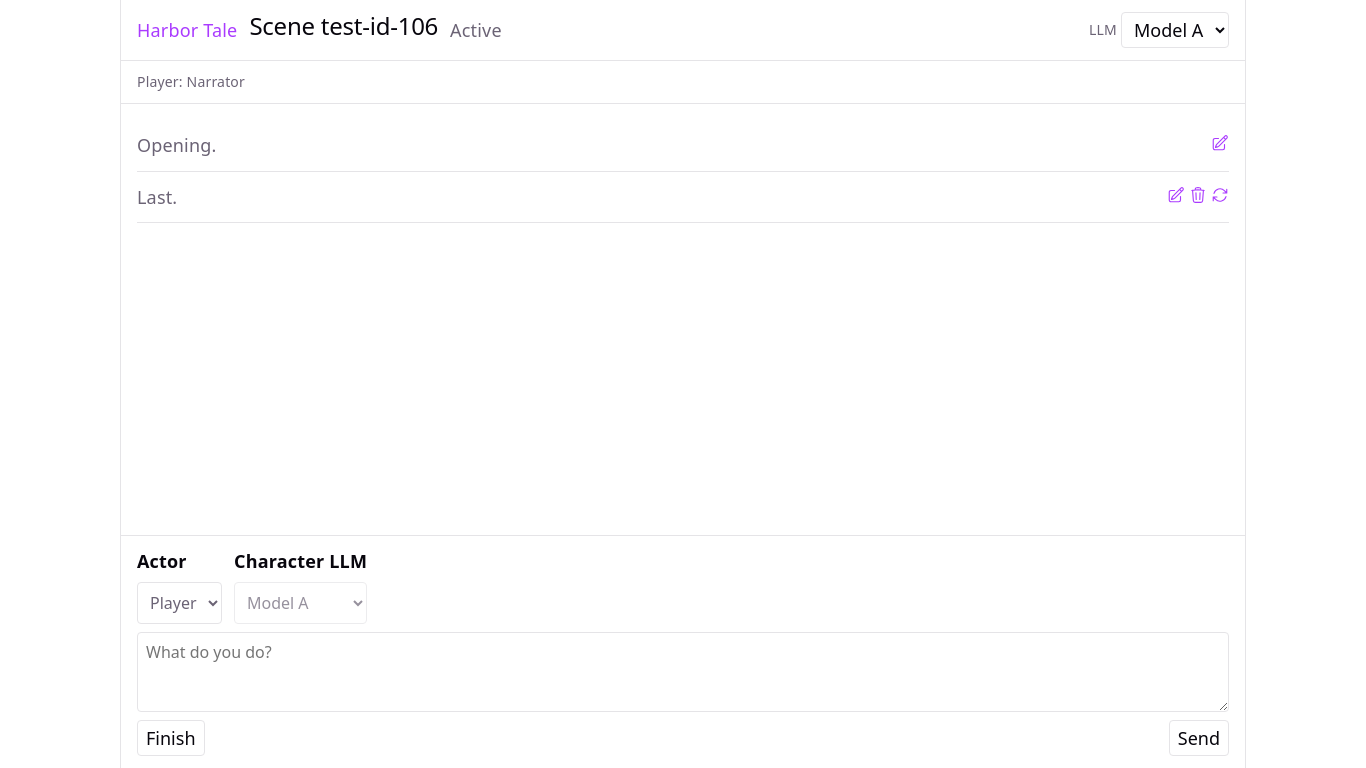
Test: CharacterScenePage › edits any paragraph in place and keeps Delete off the opening item
Expected: the text "Opening." is shown, [137,133,216,157]
Expected: the button named "Edit paragraph" in the row of "Opening." is shown, [1211,132,1229,158]
Click the button named "Edit paragraph" in the row of "Last.": (1176, 197) [1167,184,1185,210]
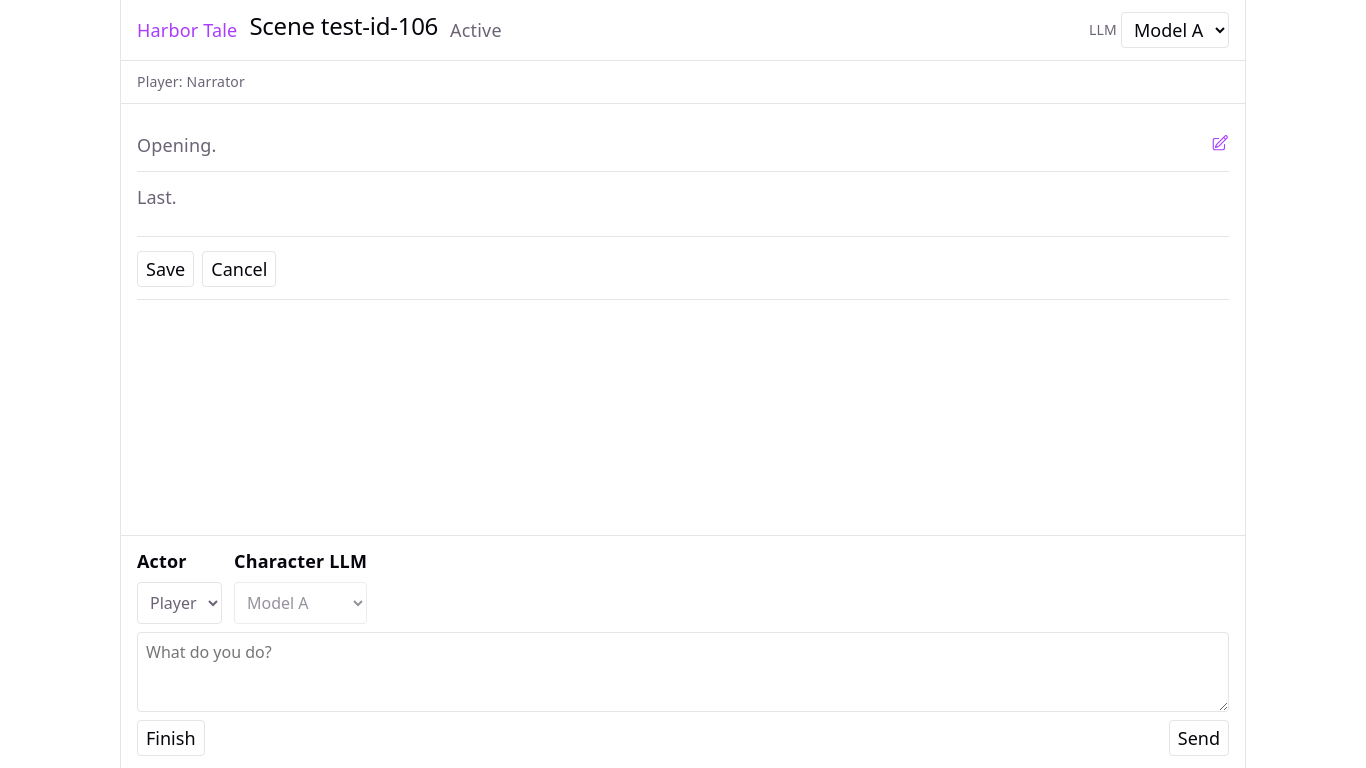
Replace the text in the text box named "Edit paragraph" with "Updated last paragraph.": (683, 210) [137,184,1229,237]
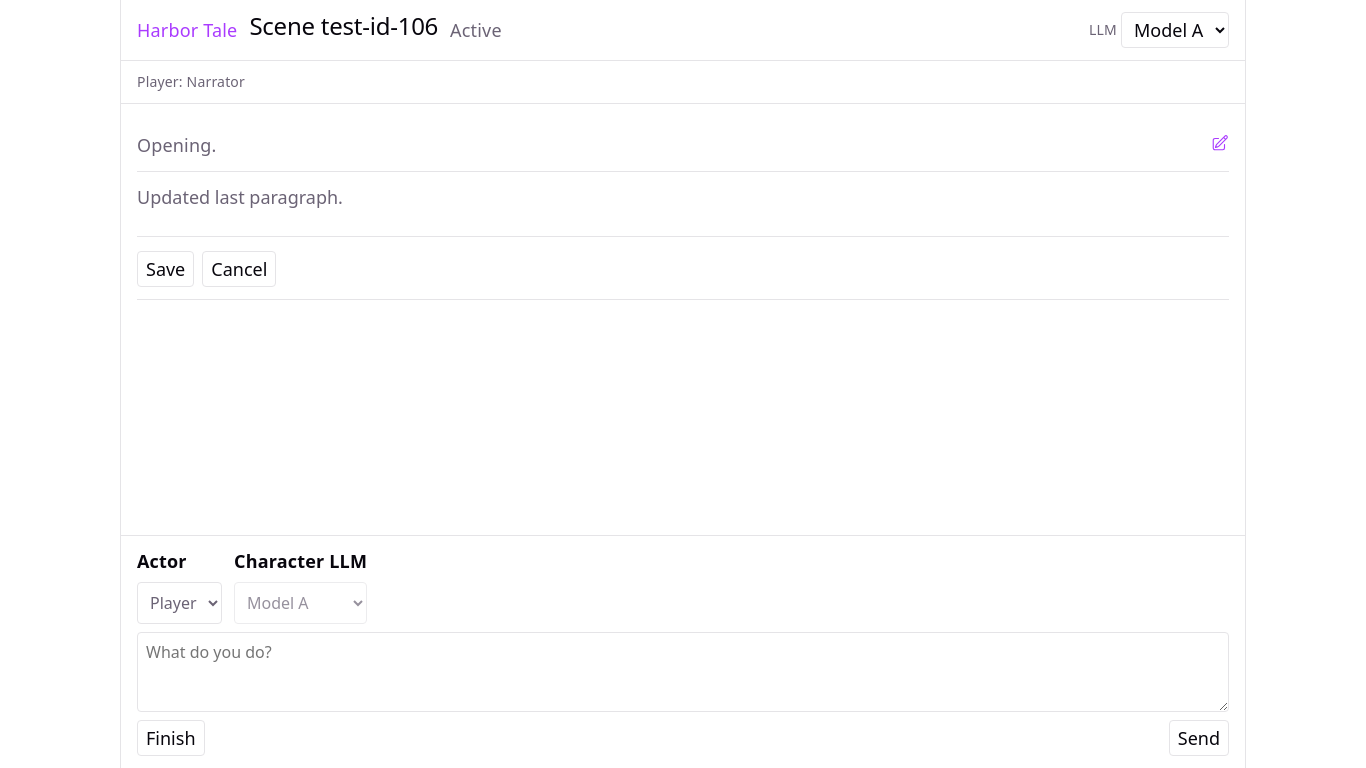
Click the button "Save": (166, 269) [137,251,194,287]
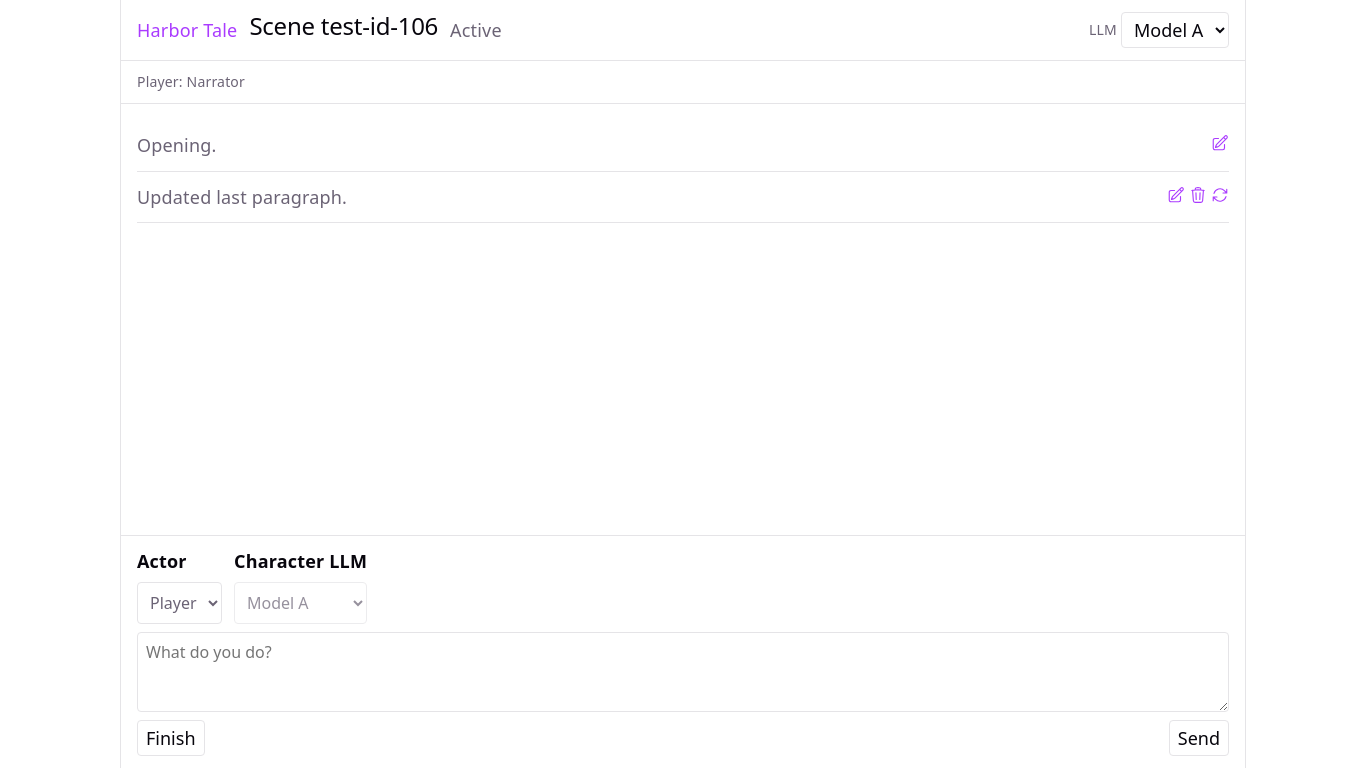
Expected: the text "Last." is not shown
Result: the text "Updated last paragraph." is shown at [137,184,347,208]
